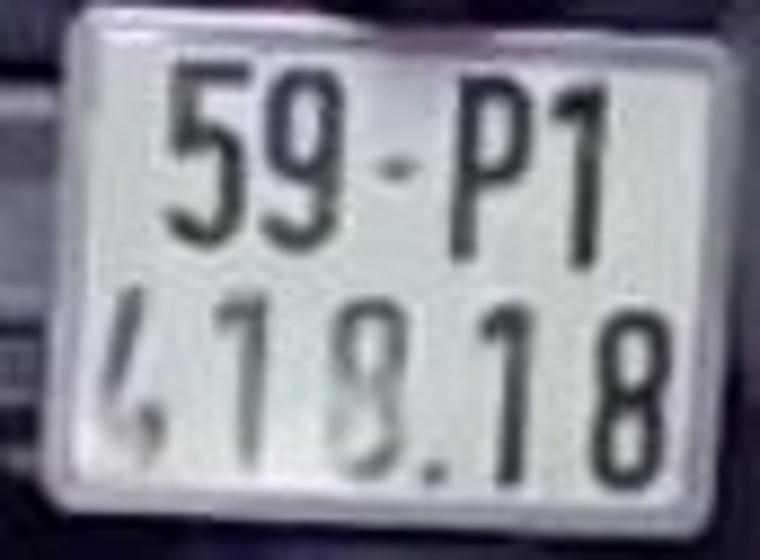-: (374, 151, 419, 188)
.: (416, 446, 458, 492)
1: (548, 72, 613, 275), (208, 282, 271, 468), (474, 297, 535, 484)
4: (86, 286, 169, 470)
5: (159, 52, 255, 258)
8: (322, 294, 408, 484), (591, 311, 676, 493)
9: (263, 61, 350, 260)
P: (449, 65, 539, 268)
